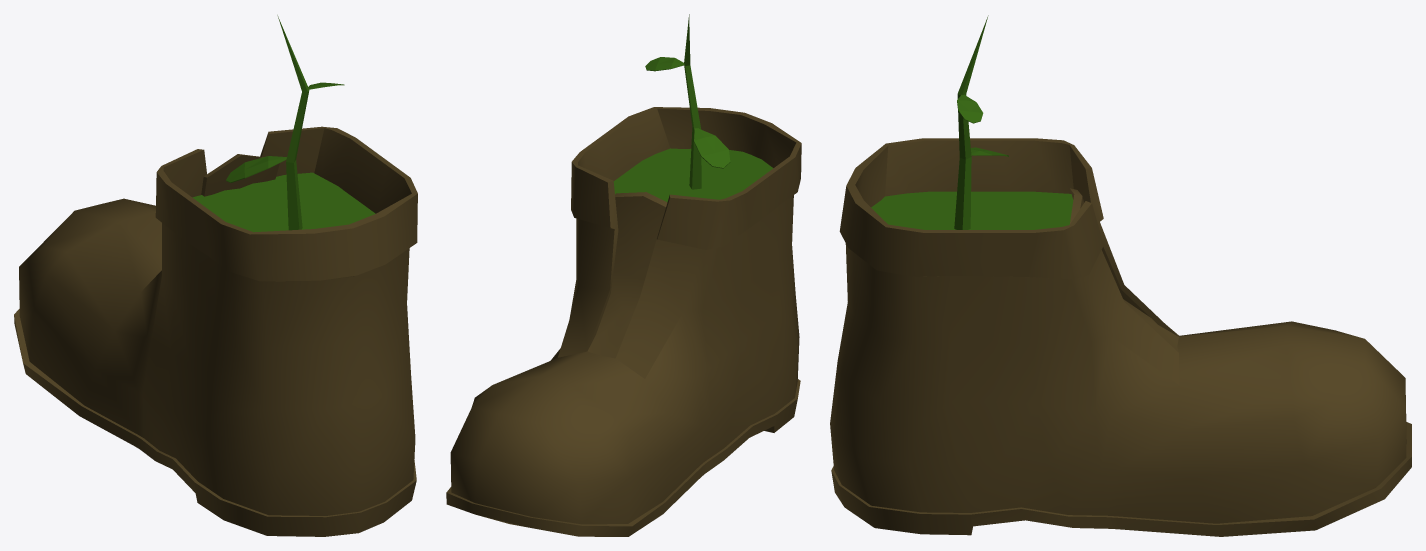
File: But.fbx
3 views of the same model, side by side, from view 1: azimuth 30°, elevation 25°; view 2: azimuth 150°, elevation 25°; view 3: azimuth 270°, elevation 25° (orthographic). The views are drawn at different scales.
Parts seen in each view (by area): view 1: But_LOD0, Roslinka-LOD0; view 2: But_LOD0, Roslinka-LOD0; view 3: But_LOD0, Roslinka-LOD0.
Part boxes in pixels (x1=…): But_LOD0: x1=14, y1=126, x2=417, y2=536; Roslinka-LOD0: x1=192, y1=15, x2=375, y2=232; But_LOD0: x1=446, y1=107, x2=801, y2=536; Roslinka-LOD0: x1=613, y1=14, x2=773, y2=202; But_LOD0: x1=830, y1=138, x2=1411, y2=536; Roslinka-LOD0: x1=871, y1=15, x2=1073, y2=229.
Size of what is drawn, in the model's own units: 19.49 by 42.81 by 47.5.
